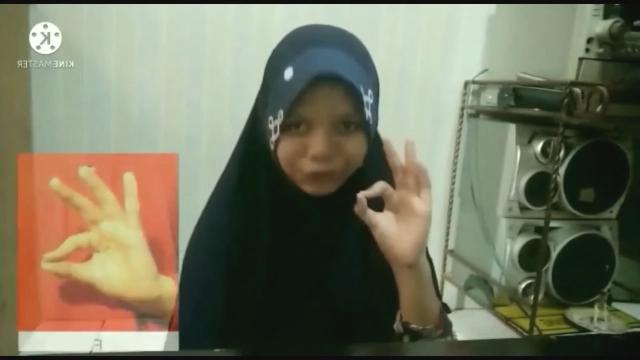F: (40, 165, 162, 302), (351, 135, 433, 263)
